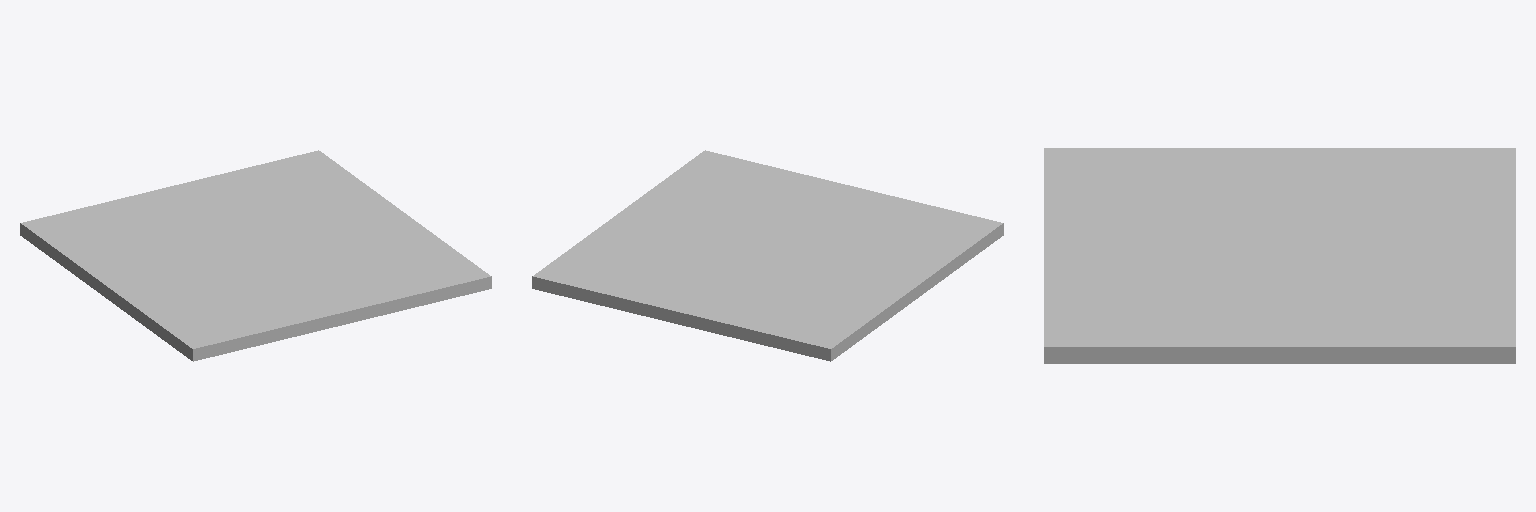
robot.urdf — base plate:
<?xml version="1.0"?>
<!-- created with Phobos 1.0.1 "Capricious Choutengan" -->
  <robot name="base plate">

    <link name="Untitled">
      <inertial>
        <origin xyz="0 0 0" rpy="0 0 0"/>
        <mass value="0.001"/>
        <inertia ixx="0.001" ixy="0" ixz="0" iyy="0.001" iyz="0" izz="0.001"/>
      </inertial>
      <visual name="Cube">
        <origin xyz="0 0 0" rpy="0 0 0"/>
        <geometry>
          <box size="0.25 0.25 0.01"/>
        </geometry>
        <material name="Material.004"/>
      </visual>
    </link>

    <material name="Material.004">
      <color rgba="0.8 0.8 0.8 1.0"/>
    </material>

  </robot>

--- Facts derived from the render (not from the file) ---
Views: 3 orthographic renders of the robot side by side, from view 1: azimuth 30°, elevation 25°; view 2: azimuth 150°, elevation 25°; view 3: azimuth 270°, elevation 25°.
Model base plate with 1 links and 0 joints (none), rooted at Untitled, posed all joints at 0.
Visible links, largest first — view 1: Untitled; view 2: Untitled; view 3: Untitled.
Link boxes in pixels (box(x1,y1,x2,y2)): Untitled: box(20, 150, 491, 361); Untitled: box(532, 150, 1003, 361); Untitled: box(1044, 148, 1515, 363).
Bounding box of the posed robot: 0.25 × 0.25 × 0.01 m (x, y, z).
Geometry: primitives only (box / cylinder / sphere), no mesh files.